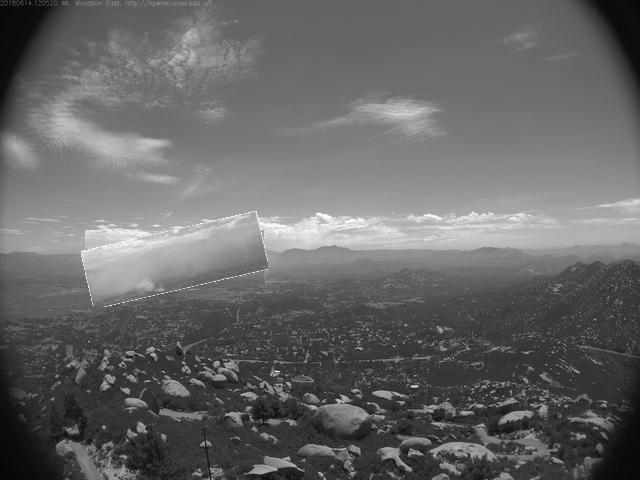smoke: (84, 222, 268, 300)
